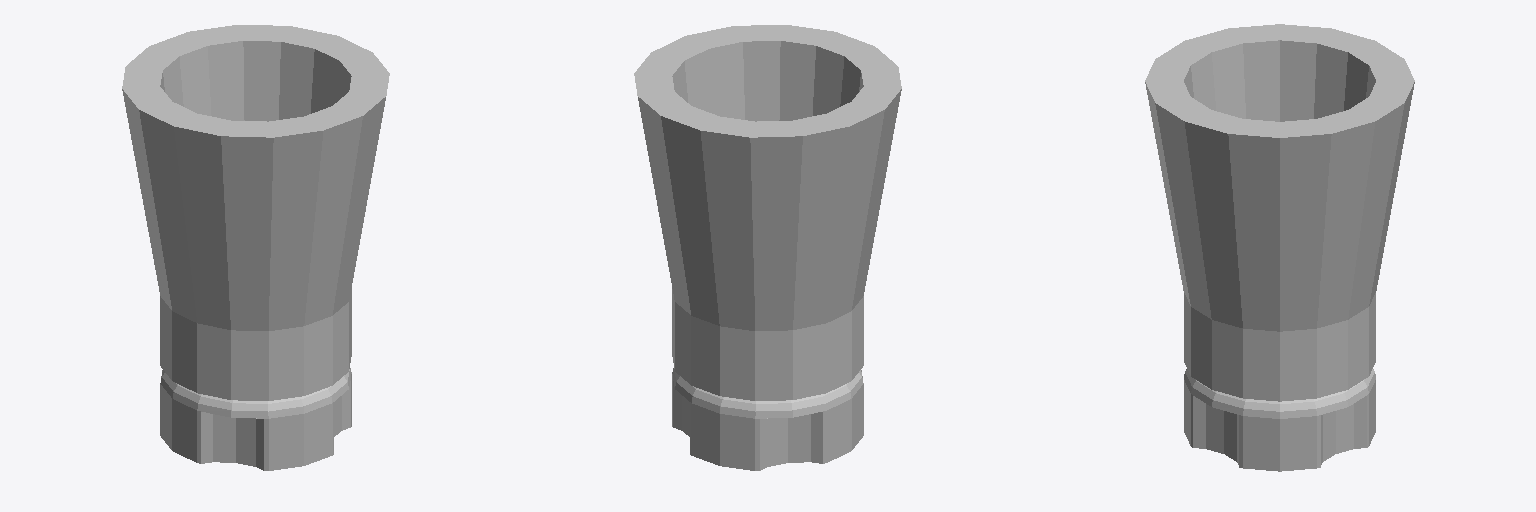
Rendered from planttreepalmtrunk.obj.
3 views of the same model, side by side, from view 1: azimuth 30°, elevation 25°; view 2: azimuth 150°, elevation 25°; view 3: azimuth 270°, elevation 25° (orthographic).
Parts seen in each view (by area): view 1: planttreepalmtrunk; view 2: planttreepalmtrunk; view 3: planttreepalmtrunk.
Part boxes in pixels (x1,y1,x2,y2): planttreepalmtrunk: (122,25,389,470); planttreepalmtrunk: (634,25,901,470); planttreepalmtrunk: (1145,24,1414,471).
Bounding box in the file's own units: 28 × 40 × 28.